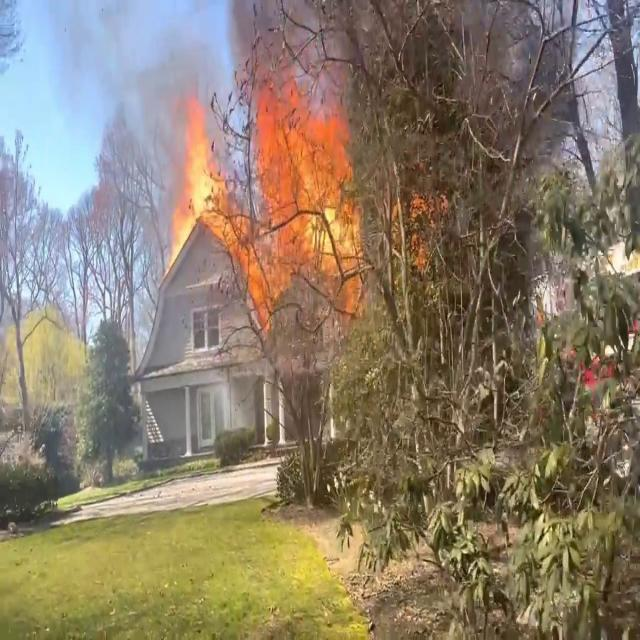Fire: (167, 74, 369, 298), (606, 234, 640, 280)
